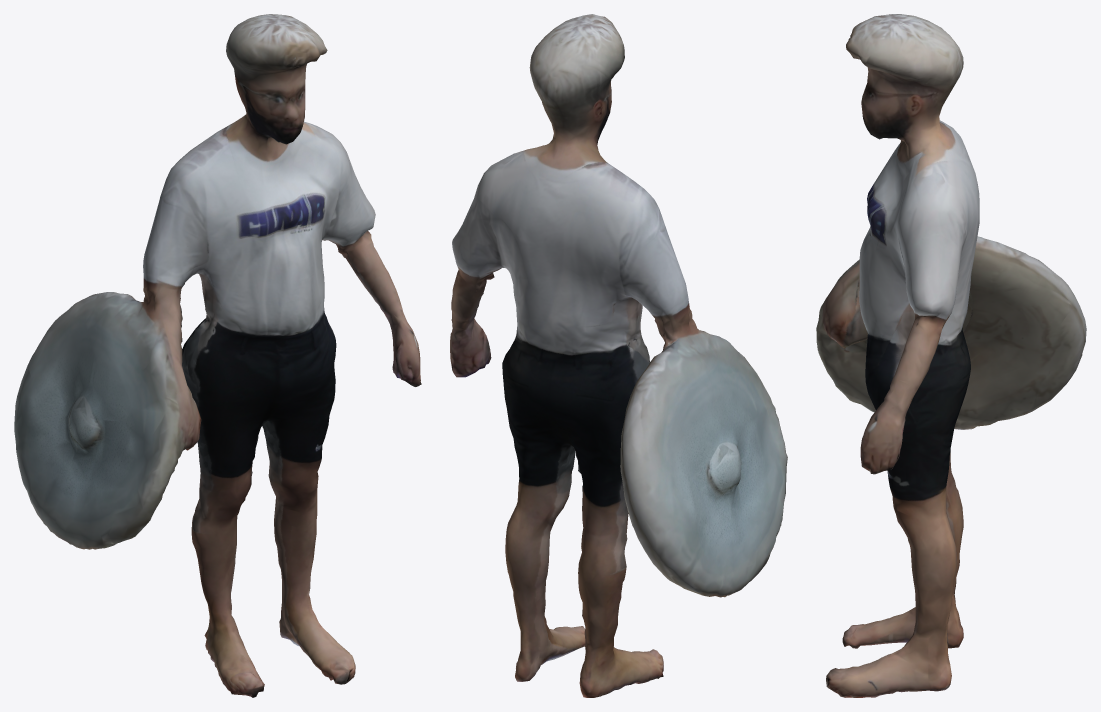
File: jilsander.glb
3 views of the same model, side by side, from view 1: azimuth 30°, elevation 25°; view 2: azimuth 150°, elevation 25°; view 3: azimuth 270°, elevation 25° (orthographic).
Size of the model in its own units: 0.6306 by 1.2 by 0.4487.
1 material, 1 textured.
